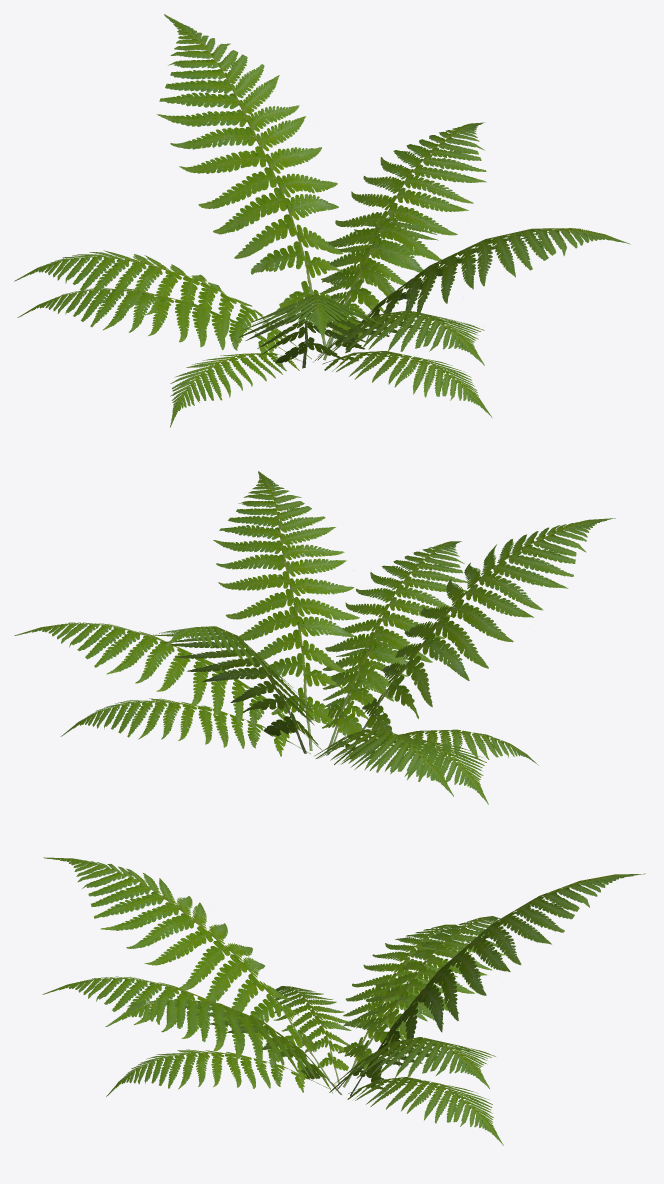
File: DM.Bush.Fern.01.fbx
The picture shows the model from 3 angles, top to bottom: view 1: azimuth 30°, elevation 25°; view 2: azimuth 150°, elevation 25°; view 3: azimuth 270°, elevation 25°; orthographic projection. The views are drawn at different scales.
Visible parts, largest first — view 1: Tree_0; view 2: Tree_0; view 3: Tree_0.
Boxes of the visible parts, left/top/right/bottom form: Tree_0: left=14, top=14, right=630, bottom=427; Tree_0: left=14, top=471, right=615, bottom=804; Tree_0: left=42, top=857, right=645, bottom=1145.
Bounding box in the file's own units: 156 × 67.95 × 174.
1 material, 1 textured.
